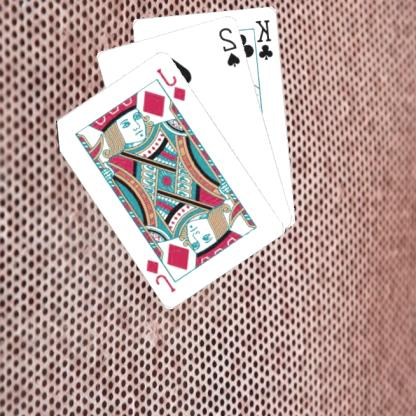2S: (218, 24, 244, 69)
JD: (155, 65, 190, 102), (145, 256, 179, 294)
KC: (251, 17, 277, 66)
